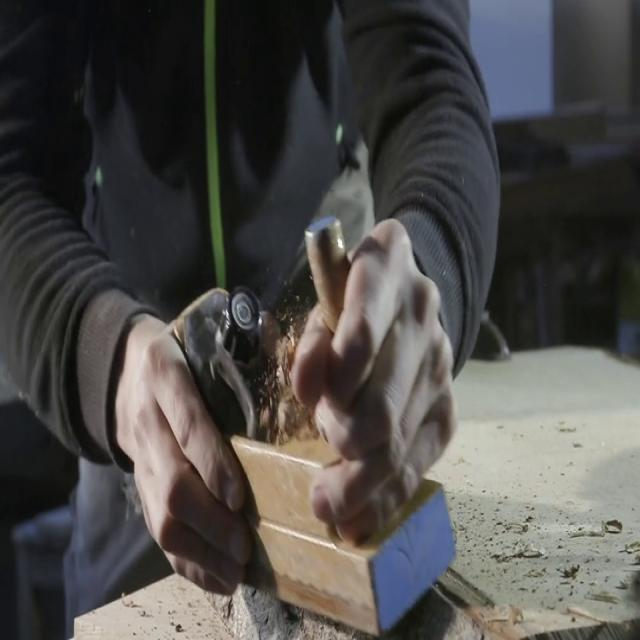not-gloved: (290, 214, 457, 546), (112, 309, 256, 596)
